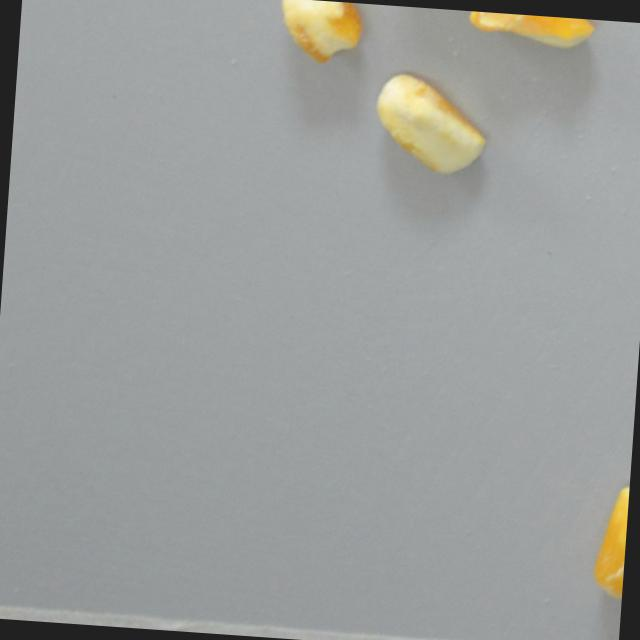estandar: (368, 70, 489, 180), (273, 0, 364, 62)
pelicula: (463, 9, 593, 66), (560, 487, 629, 585)
